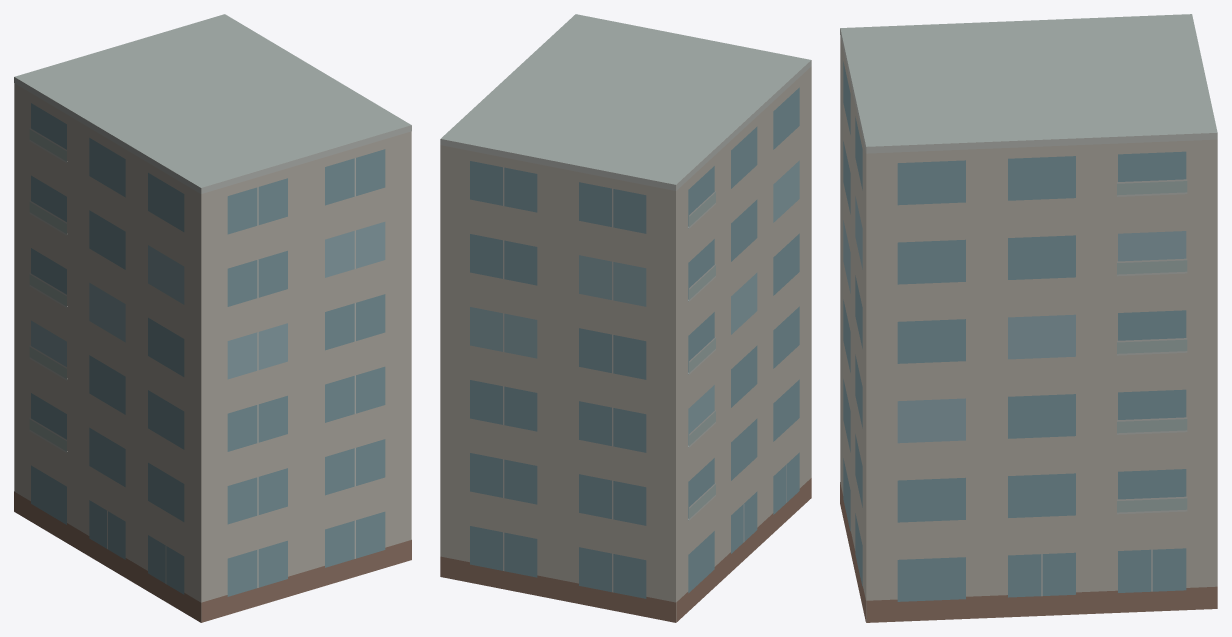
File: survey-upis-32995296.glb
3 renders of one model, left to right at view 1: azimuth 30°, elevation 25°; view 2: azimuth 150°, elevation 25°; view 3: azimuth 270°, elevation 25°, orthographic. The views are drawn at different scales.
Parts seen in each view (by area): view 1: survey-upis-32995296.tmp; view 2: survey-upis-32995296.tmp; view 3: survey-upis-32995296.tmp.
Part boxes in pixels (x1=…): survey-upis-32995296.tmp: x1=14, y1=14, x2=411, y2=622; survey-upis-32995296.tmp: x1=440, y1=14, x2=811, y2=622; survey-upis-32995296.tmp: x1=840, y1=14, x2=1217, y2=622.
Bounding box in the file's own units: 10.33 × 17.25 × 12.41.
